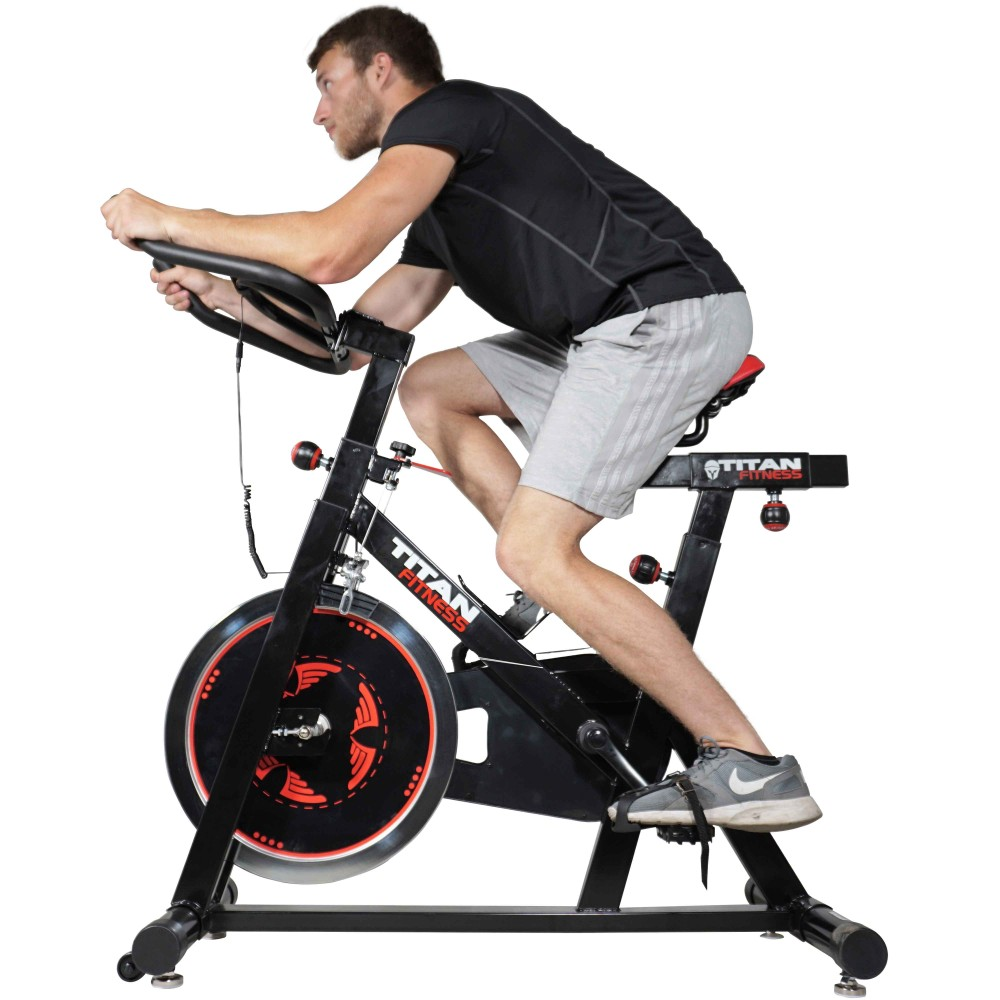gym_bike: (67, 236, 897, 973)
